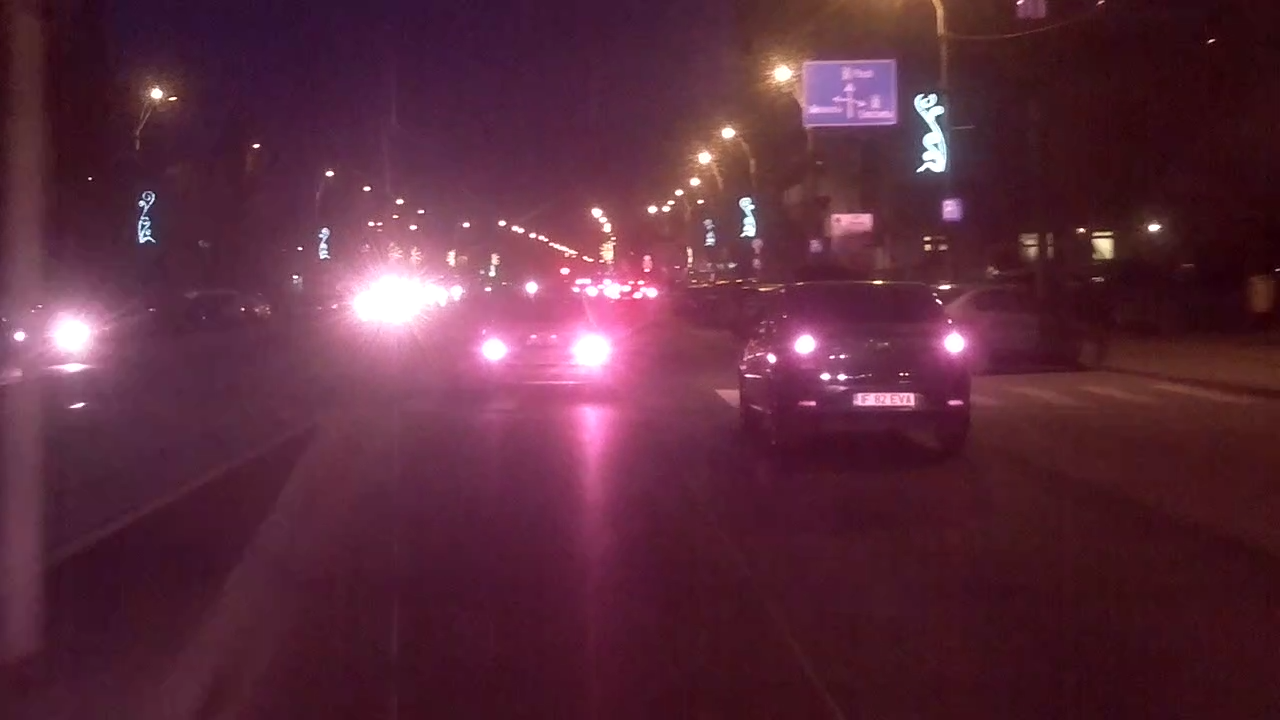license-plate: (849, 390, 919, 408)
